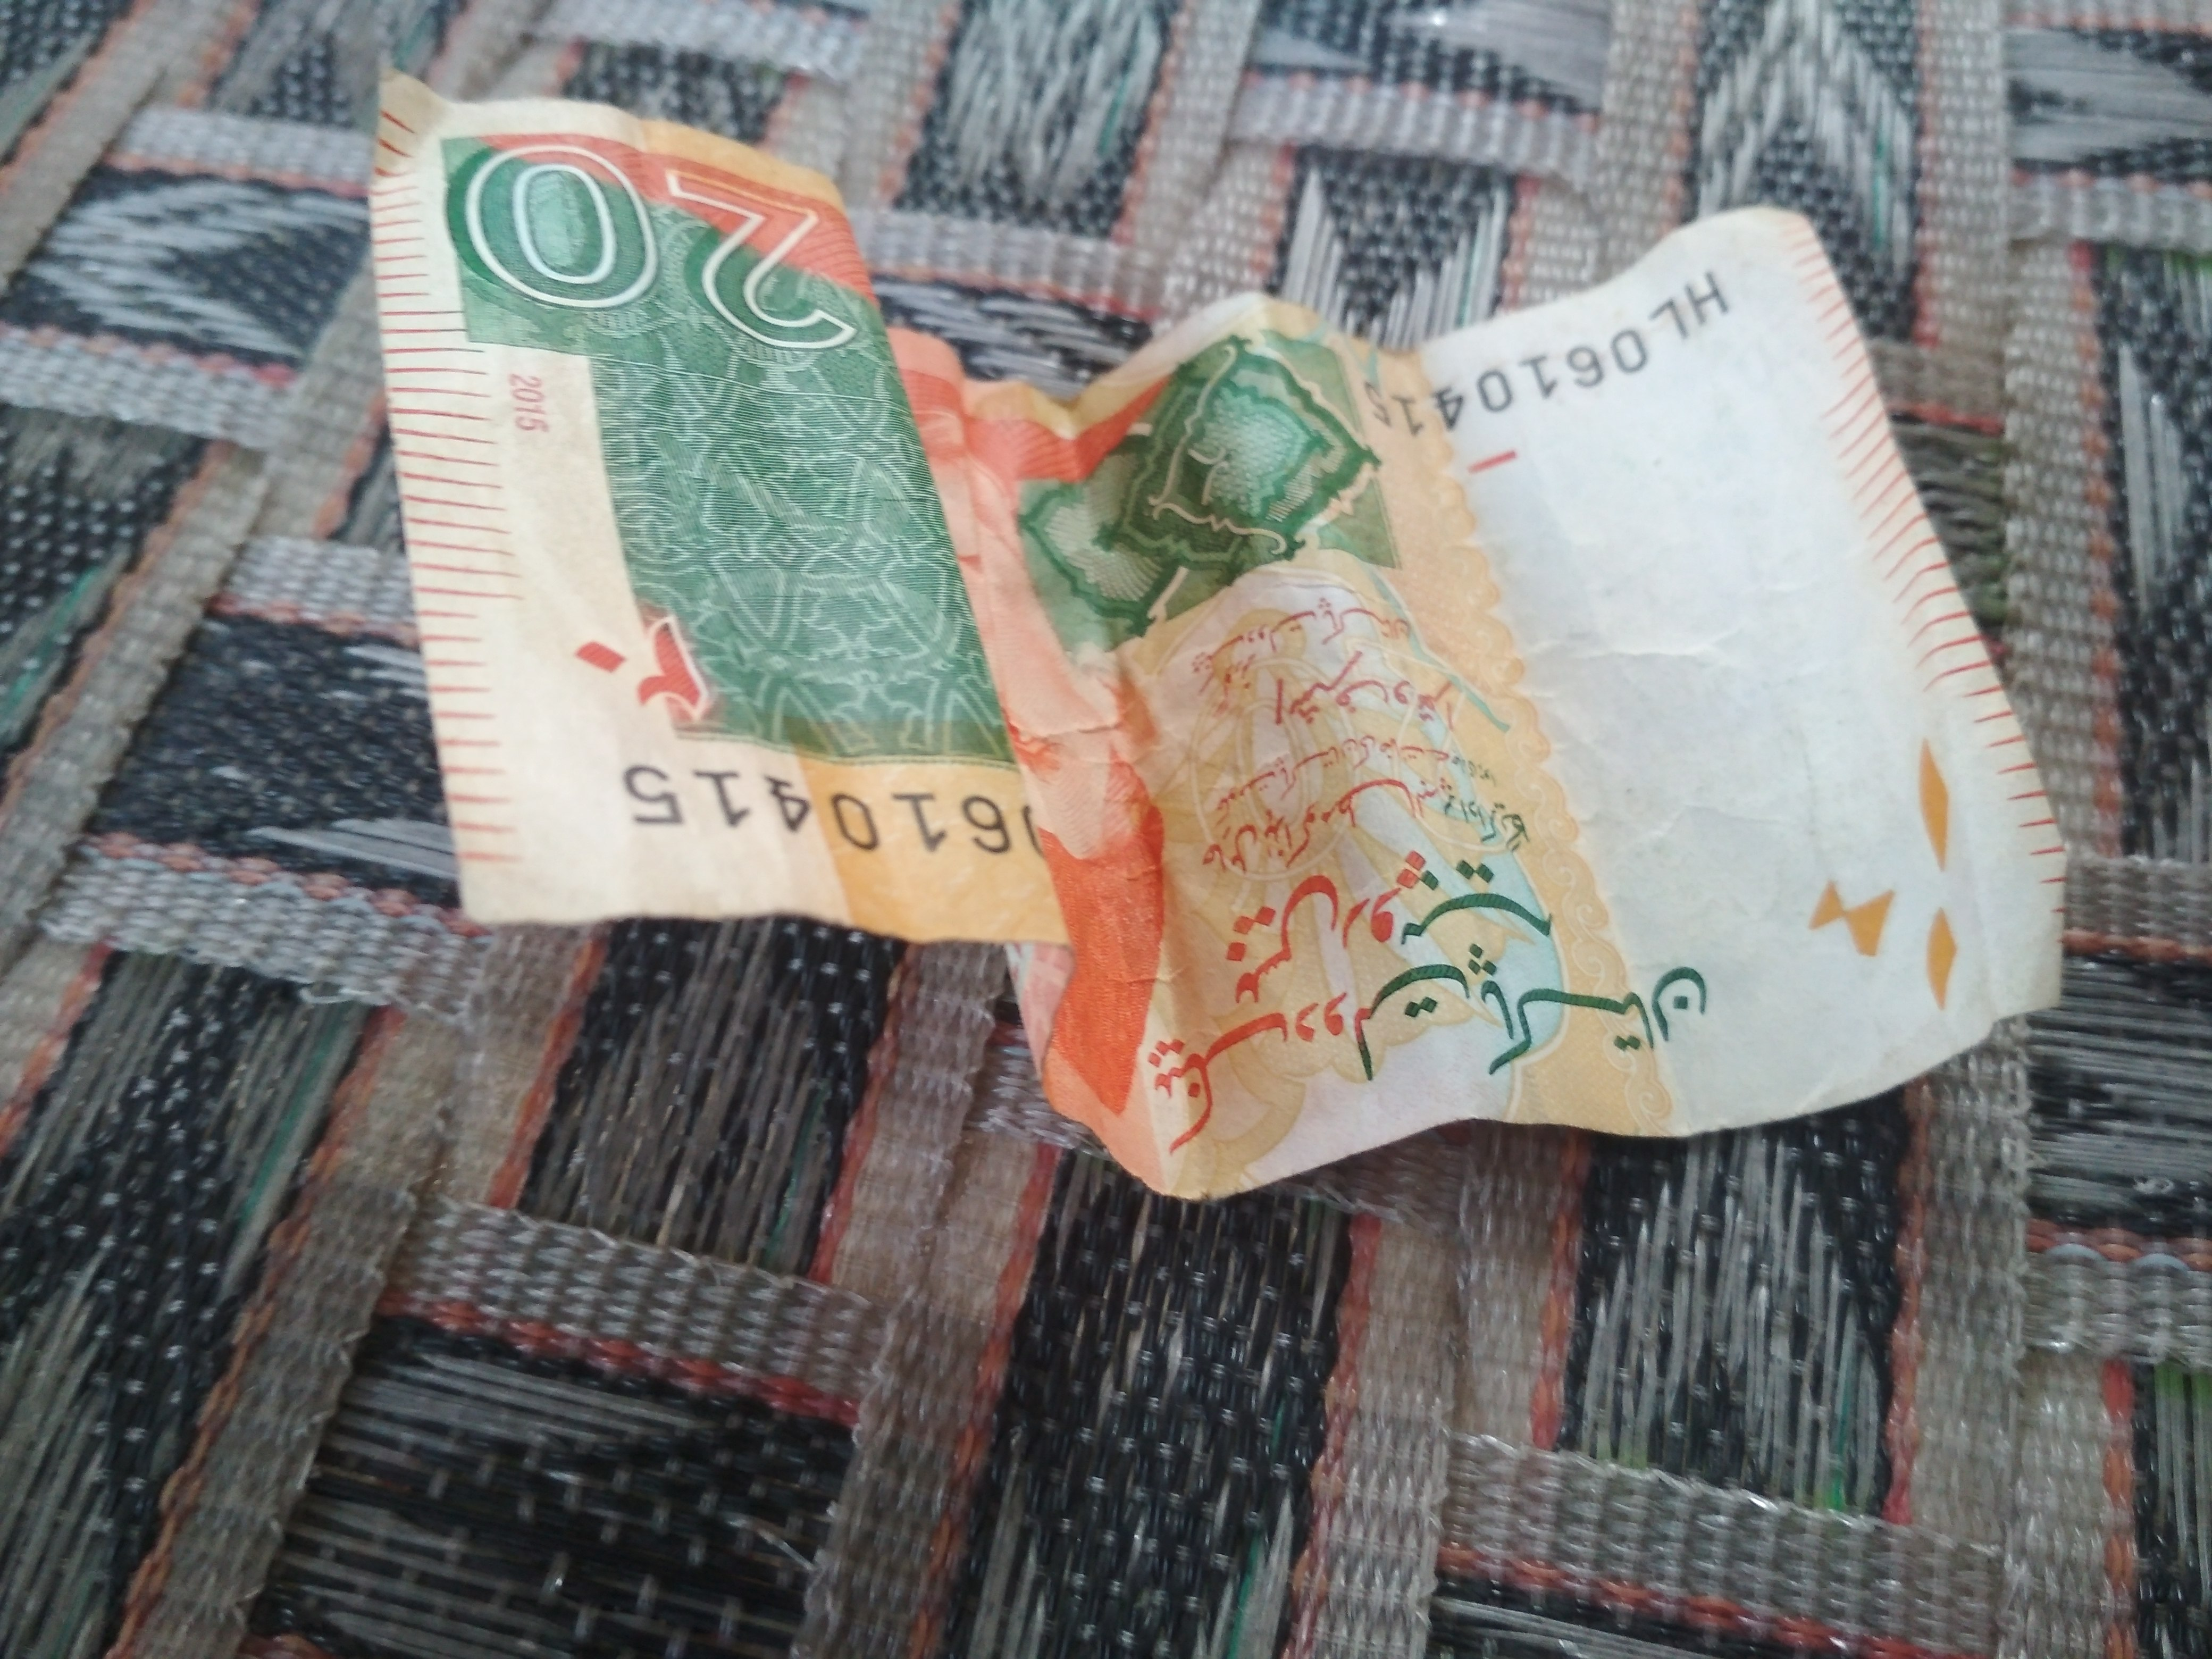20 rupee: (301, 45, 2073, 1274)
